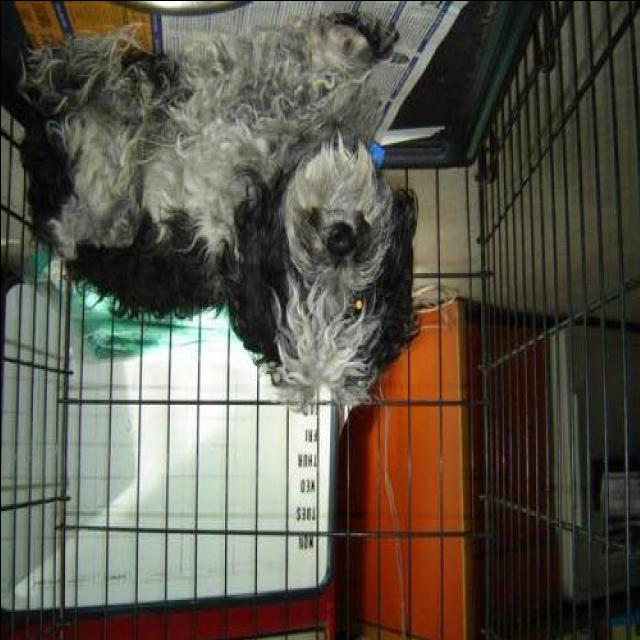dog: (0, 0, 425, 442)
